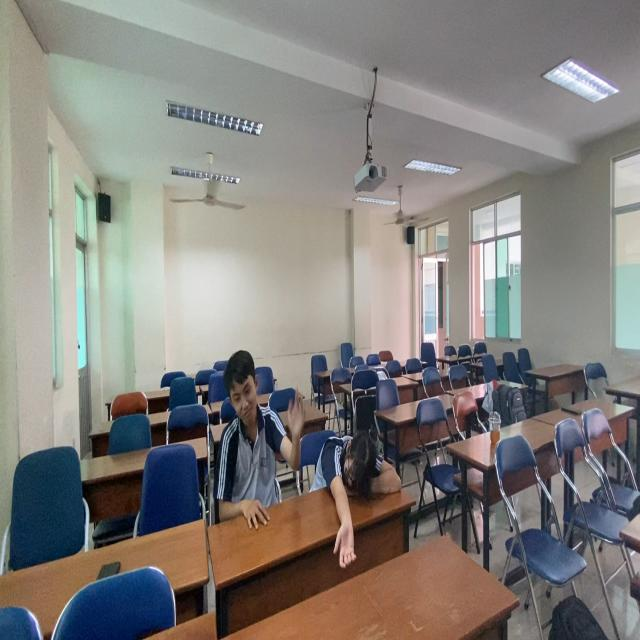raise_hand: (214, 351, 314, 522)
sleep: (316, 421, 405, 527)
